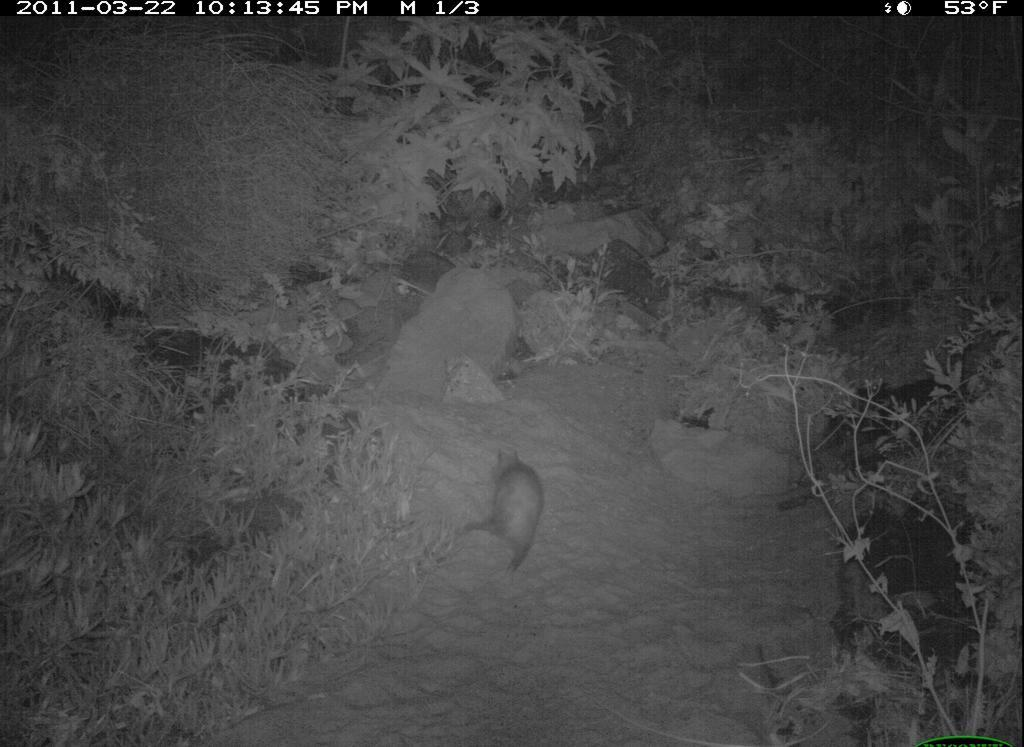opossum: (468, 443, 552, 573)
